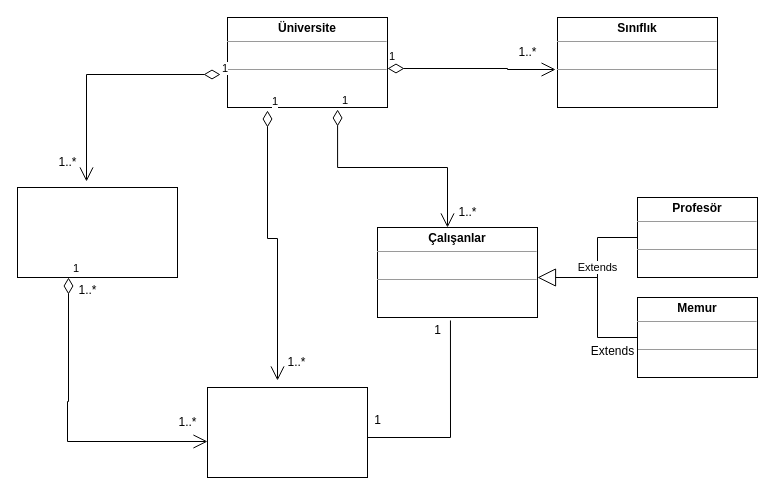
This 775x495 diagram has some shape labels left out. The shapes that lost their labels are listed below. From the top down, each one's box as (x1, y1, x2, y2) in pixels, then its label:
(16, 186, 178, 278): Departmanlar
(206, 386, 368, 478): Ofisler
